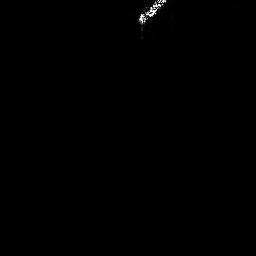ship: (135, 1, 169, 27)
